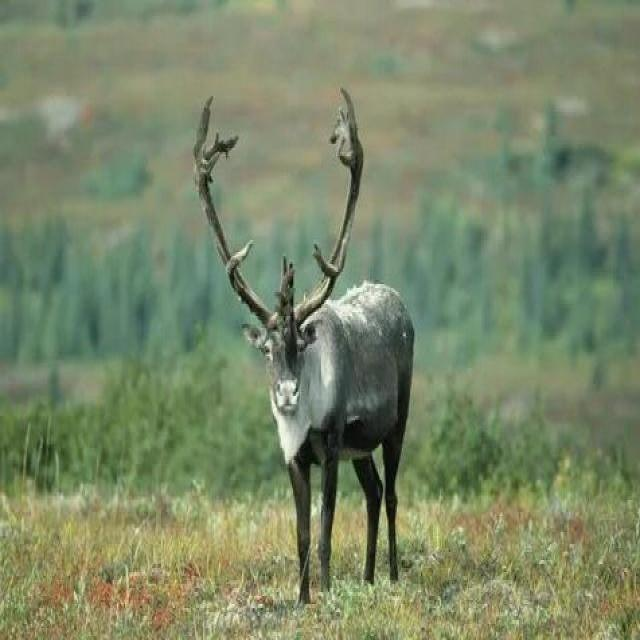deer: (166, 75, 444, 612)
